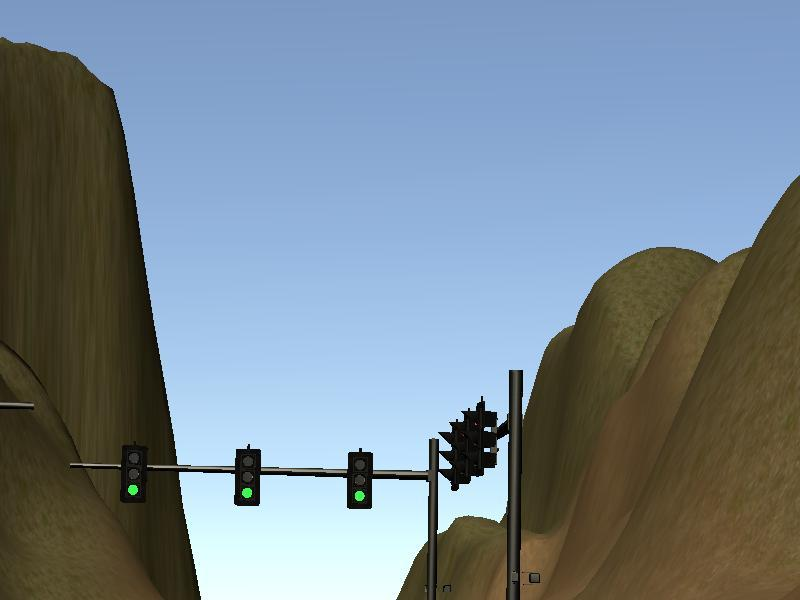Green: (234, 448, 261, 508), (347, 451, 373, 510), (120, 444, 146, 501)
